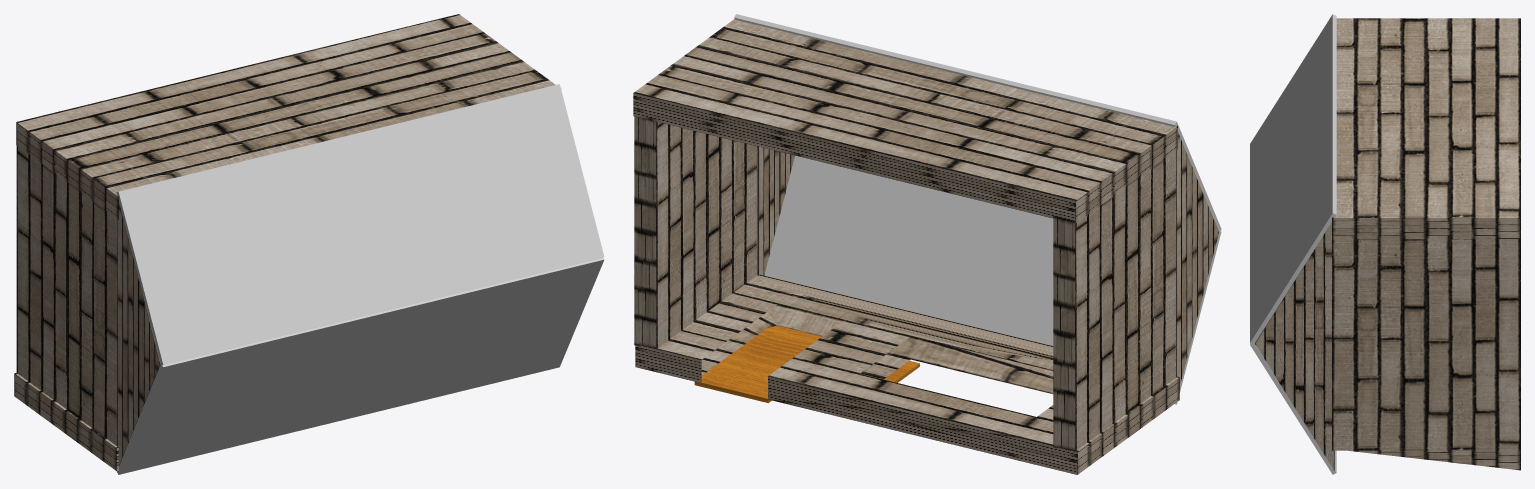
The model's file is shack99_wtf.obj.
3 renders of one model, left to right at view 1: azimuth 30°, elevation 25°; view 2: azimuth 150°, elevation 25°; view 3: azimuth 270°, elevation 25°, orthographic. The views are drawn at different scales.
Parts seen in each view (by area): view 1: group12, group8, group13, group10, group7, group9; view 2: group8, group9, group13, group10, group11, group7, group5, group12, group6; view 3: group8, group11, group12, group6, group9, group13.
Part boxes in pixels (bbox=[...]): group12: bbox=[116, 84, 604, 365]; group8: bbox=[16, 14, 555, 219]; group13: bbox=[116, 257, 604, 474]; group10: bbox=[16, 146, 117, 445]; group7: bbox=[117, 202, 160, 466]; group9: bbox=[14, 373, 118, 470]; group8: bbox=[633, 19, 1177, 223]; group9: bbox=[635, 274, 1179, 474]; group13: bbox=[764, 155, 1221, 404]; group10: bbox=[1053, 151, 1175, 451]; group11: bbox=[634, 116, 756, 348]; group7: bbox=[1176, 132, 1218, 386]; group5: bbox=[694, 325, 821, 402]; group12: bbox=[734, 14, 1221, 231]; group6: bbox=[757, 146, 794, 275]; group8: bbox=[1332, 18, 1520, 239]; group11: bbox=[1332, 239, 1520, 450]; group12: bbox=[1250, 14, 1336, 344]; group6: bbox=[1255, 222, 1334, 470]; group9: bbox=[1348, 450, 1520, 470]; group13: bbox=[1250, 343, 1336, 474].
Bounding box in the file's own units: 660 × 403 × 377.
